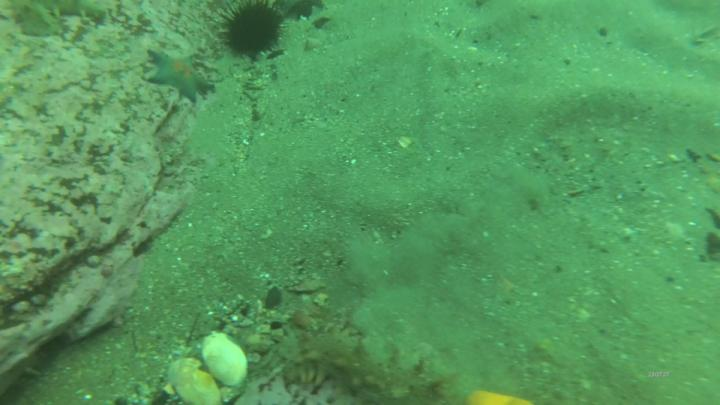echinus: (222, 5, 284, 61)
holothurian: (297, 326, 465, 405)
starfish: (148, 48, 218, 105)
